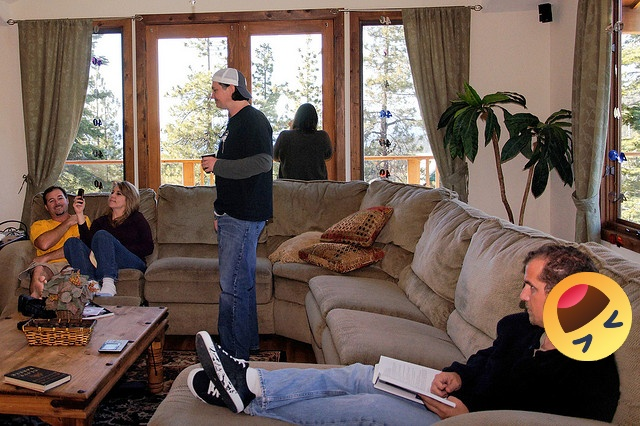haha: (543, 272, 632, 361)
